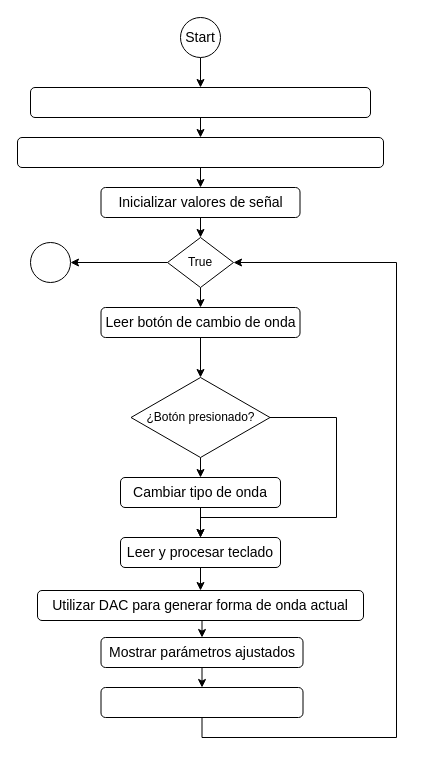
Image size: 422x763. Some labels were removed from this diagram. The shapes that lost their labels are listed below. From the top down, each one's box as (x1, y1, x2, y2) in pixels, then its label:
(30, 86, 370, 118): Configurar el hardware y DAC para salida de señales
(16, 136, 384, 168): Configurar teclado matricial y botón con interrupciones
(30, 242, 70, 282): End
(100, 686, 303, 718): Delay para sincronización
